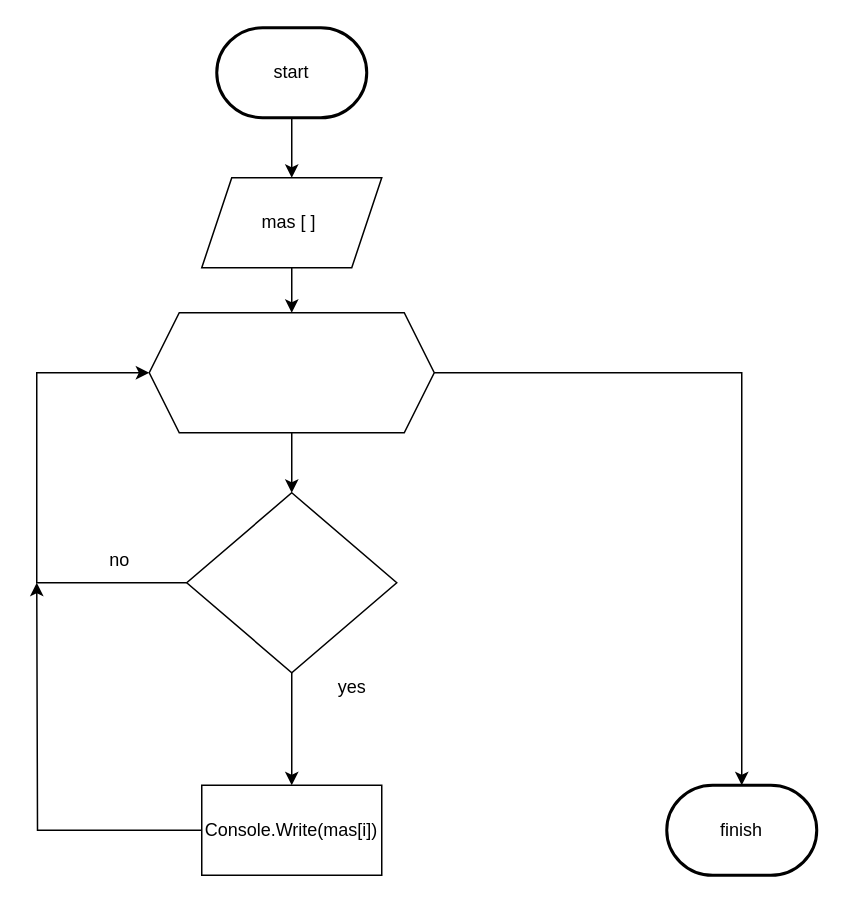
Some shapes in this 845 by 902 pixel diagram are drawn without their labels. Here are the shapes that lost their labels. From the top down, the centre of each, then its label:
the point at 291,372: i=0; i < mas.Length; i++
the point at 291,582: mas [i].Lengnh <= 3
